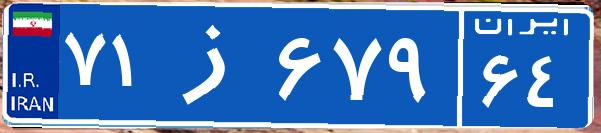1: (110, 28, 158, 105)
4: (525, 38, 570, 115)
6: (273, 28, 330, 110), (475, 38, 525, 113)
7: (330, 28, 385, 110), (57, 26, 110, 107)
9: (385, 28, 445, 110)
ز: (158, 15, 273, 115)
